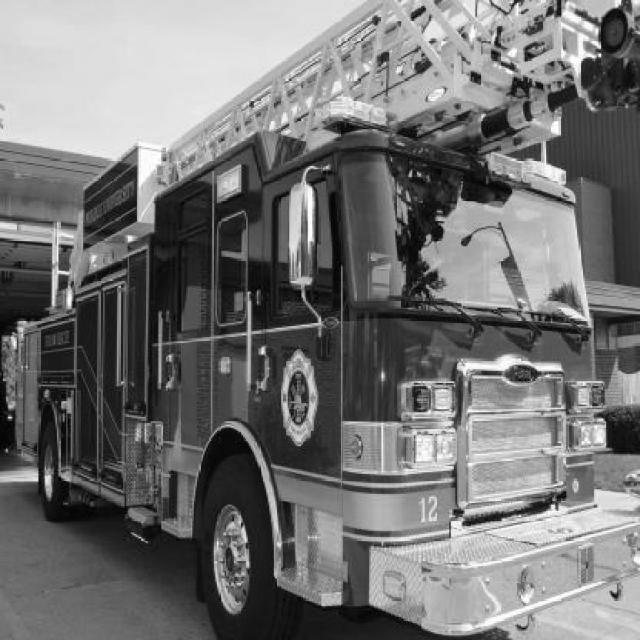Fire Truck: (19, 0, 640, 640)
